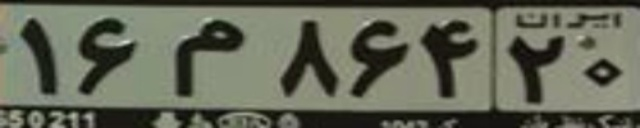0: (575, 55, 628, 86)
1: (19, 14, 60, 93)
2: (504, 33, 568, 104)
4: (416, 17, 487, 98)
6: (68, 15, 144, 95), (342, 18, 411, 99)
8: (274, 18, 340, 98)
mim: (163, 18, 249, 97)
